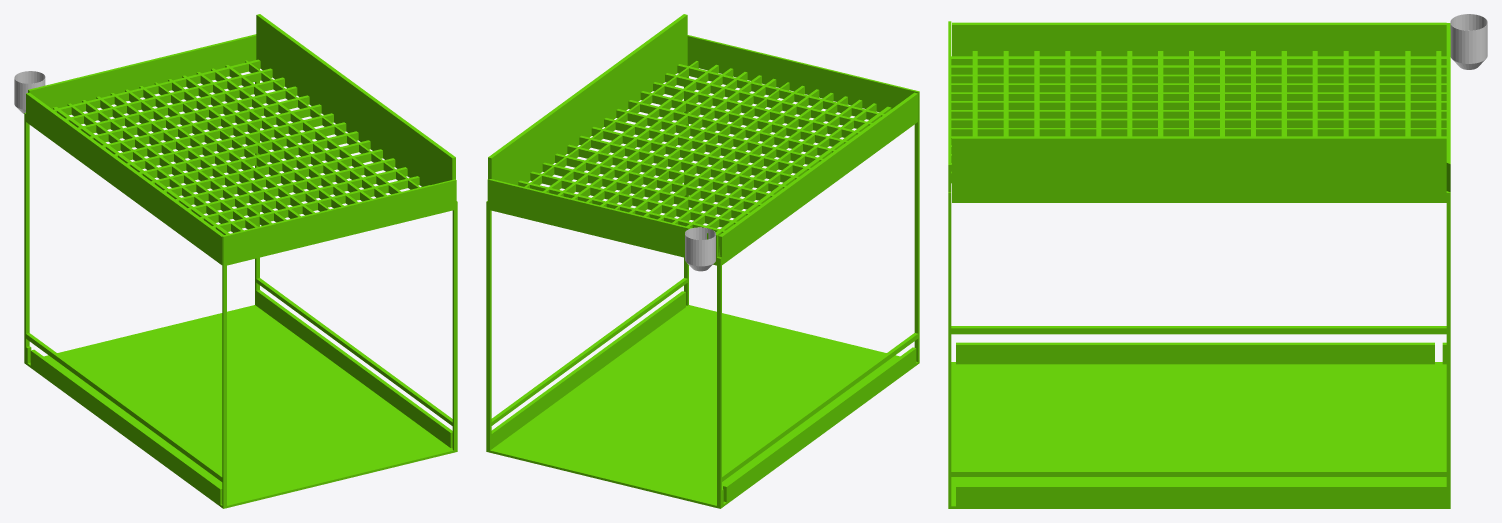
The model's file is Rak Piringfbx.fbx.
3 renders of one model, left to right at view 1: azimuth 30°, elevation 25°; view 2: azimuth 150°, elevation 25°; view 3: azimuth 270°, elevation 25°, orthographic. The views are drawn at different scales.
Visible parts, largest first — view 1: Cube, Cylinder; view 2: Cube, Cylinder; view 3: Cube, Cylinder.
Part boxes in pixels (x1,y1,x2,y2): Cube: (24,14,457,508); Cylinder: (14,71,45,113); Cube: (486,14,919,508); Cylinder: (685,227,715,271); Cube: (948,21,1450,508); Cylinder: (1450,14,1487,69).
Bounding box in the file's own units: 715 × 853 × 1126.
